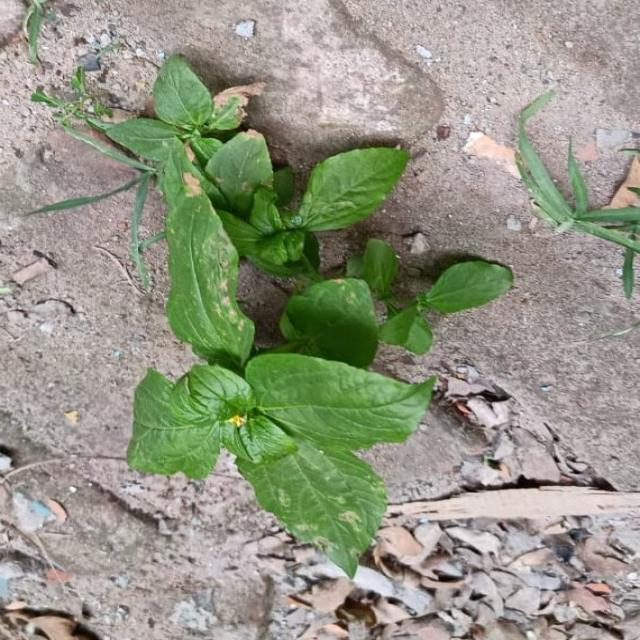weed: (104, 55, 513, 575)
